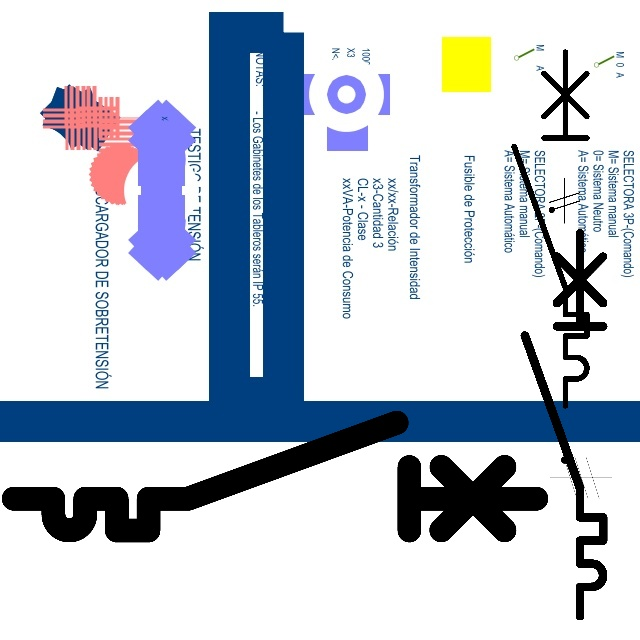interruptor_termomagnetico: (0, 409, 550, 544), (515, 223, 613, 626), (505, 43, 596, 415)
